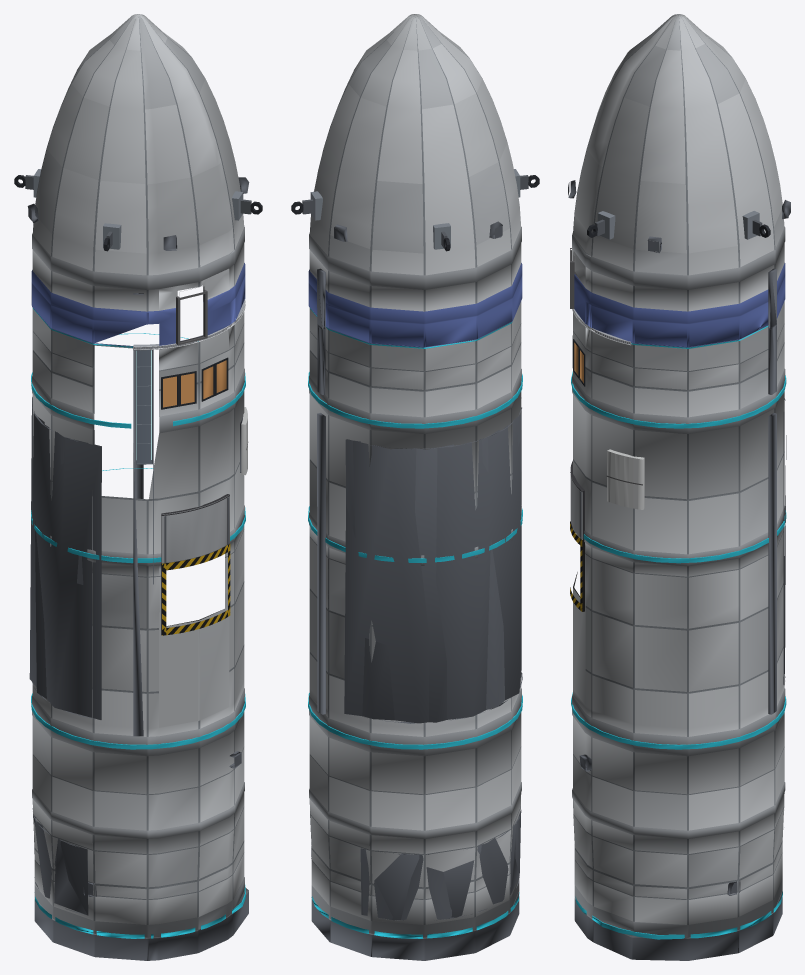
The model's file is pr17_hull_bay_1015_ee26cbd9.glb.
3 views of the same model, side by side, from view 1: azimuth 30°, elevation 25°; view 2: azimuth 150°, elevation 25°; view 3: azimuth 270°, elevation 25° (orthographic).
Parts seen in each view (by area): view 1: Study_1720_Hull_Channel_PROPOSAL; view 2: Study_1720_Hull_Channel_PROPOSAL; view 3: Study_1720_Hull_Channel_PROPOSAL.
Boxes of the visible parts, <box> form: Study_1720_Hull_Channel_PROPOSAL: <box>14,14,262,960</box>; Study_1720_Hull_Channel_PROPOSAL: <box>291,14,539,960</box>; Study_1720_Hull_Channel_PROPOSAL: <box>568,14,790,960</box>.
Size of the model in its own units: 8.48 by 37.55 by 8.4.
